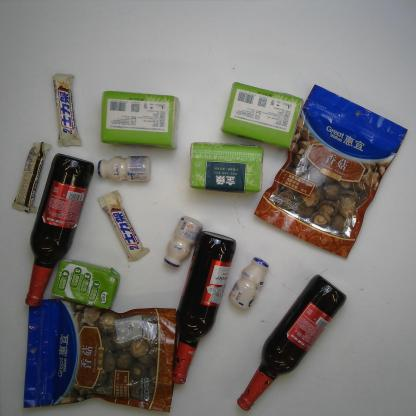Alcohol: (236, 274, 347, 412), (21, 153, 95, 311), (166, 230, 236, 387)
Chocolate: (98, 190, 150, 262), (11, 142, 52, 214), (52, 73, 83, 148)
Dried Food: (254, 84, 408, 259), (24, 299, 179, 413)
Milk: (46, 257, 121, 310), (228, 258, 269, 310), (164, 216, 203, 268), (98, 156, 152, 182)
Tissue: (220, 82, 305, 149), (100, 90, 180, 148), (189, 142, 264, 194)
